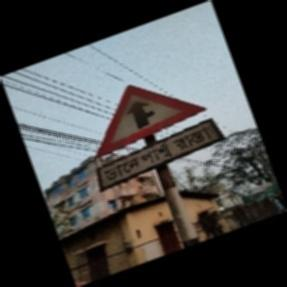Side-road-right: (95, 84, 228, 193)
